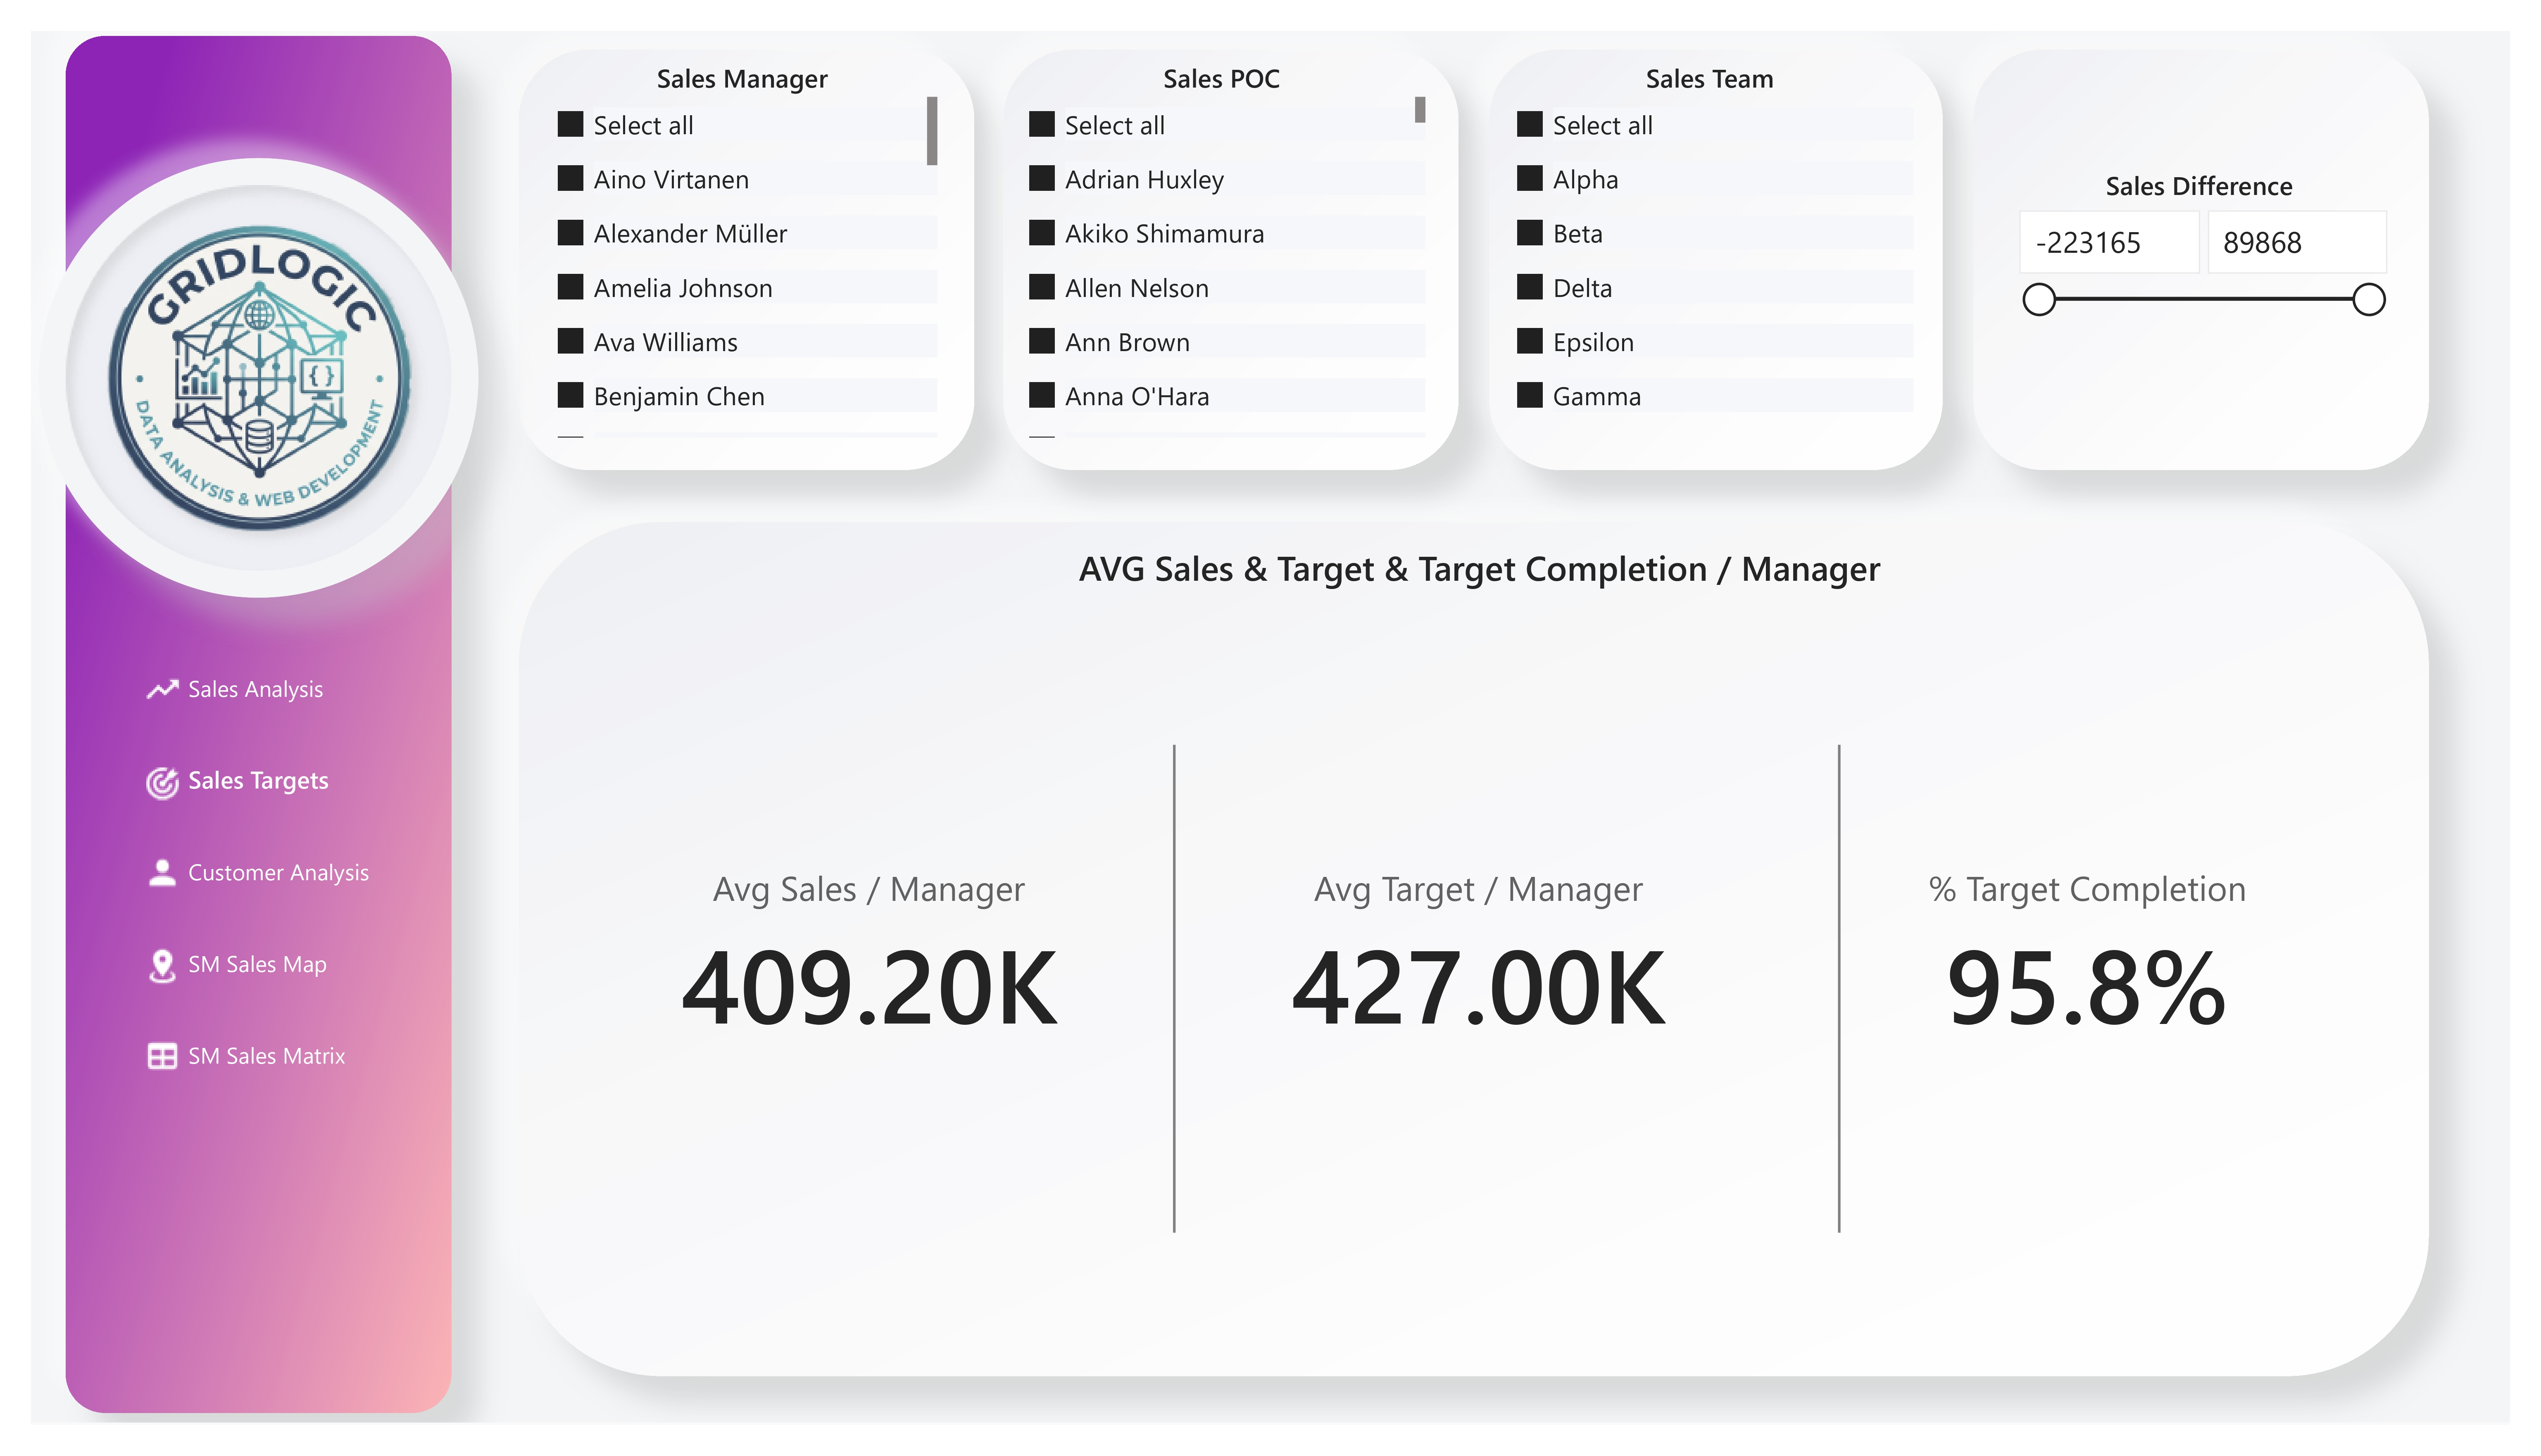

This screenshot's page, from the dashboard's own definition file:
{"tool":"powerbi","page":{"name":"Sales Targets","canvas":[1920,1080],"ordinal":1},"visuals":[{"type":"cardVisual","title":"AVG Sales & Target & Target Completion / Manager","fields":{"Data":["MeasureTable.Avg Sales per Manager","MeasureTable.Avg Target per Manager","MeasureTable.% Target Completion"]},"box":[416.7,396.7,1410,598.3],"z":0},{"type":"slicer","title":"Sales Manager","fields":{"Values":["Sales Targets.Sales Manager Name"]},"box":[400,21.7,301.7,293.3],"z":1000},{"type":"actionButton","title":"TableIconButton","box":[82.9,775.3,37.6,37.6],"z":1500,"group":"g1"},{"type":"slicer","title":"Sales POC","fields":{"Values":["Sales Targets.Sales POC"]},"box":[765,21.7,315,293.3],"z":2000},{"type":"slicer","title":"Sales Team","fields":{"Values":["Sales Targets.Sales Team"]},"box":[1143.3,21.7,315,293.3],"z":3000},{"type":"slicer","title":"Sales Difference","fields":{"Values":["Sales Targets.Sales Difference"]},"box":[1531.7,105,295,130],"z":4000},{"type":"actionButton","title":"MapIconButton","box":[82.9,704.8,37.6,37.6],"z":4000,"group":"g1"},{"type":"actionButton","title":"CustomerIconButton","box":[82.9,632.4,37.6,37.6],"z":4312,"group":"g1"},{"type":"actionButton","title":"TargetIconButton","box":[82.9,563.4,37.6,37.6],"z":4625,"group":"g1"},{"type":"group","id":"g1","title":"NavMenu","box":[82.9,473.8,209.6,355],"z":5000},{"type":"actionButton","title":"SalesIconButton","box":[82.9,490.5,37.6,37.6],"z":5250,"group":"g1"},{"type":"pageNavigator","title":"PageNavigator","box":[110,473.8,182.5,355],"z":5500,"group":"g1"},{"type":"shape","box":[849.1,552.9,72.9,377.9],"z":6000},{"type":"shape","box":[1364.1,552.9,72.9,377.9],"z":7000}]}

Visuals, with their boxes on the page's 1920x1080 design canvas (x1, y1, x2, y2). These are canvas units, not pixel positions in the 2541x1456 screenshot, which may show the page scaled, cropped or inside an application window:
"AVG Sales & Target & Target Completion / Manager" cardVisual: BBox(417, 397, 1827, 995)
"Sales Manager" slicer: BBox(400, 22, 702, 315)
"TableIconButton" actionButton: BBox(83, 775, 120, 813)
"Sales POC" slicer: BBox(765, 22, 1080, 315)
"Sales Team" slicer: BBox(1143, 22, 1458, 315)
"Sales Difference" slicer: BBox(1532, 105, 1827, 235)
"MapIconButton" actionButton: BBox(83, 705, 120, 742)
"CustomerIconButton" actionButton: BBox(83, 632, 120, 670)
"TargetIconButton" actionButton: BBox(83, 563, 120, 601)
"NavMenu" group: BBox(83, 474, 292, 829)
"SalesIconButton" actionButton: BBox(83, 490, 120, 528)
"PageNavigator" pageNavigator: BBox(110, 474, 292, 829)
shape: BBox(849, 553, 922, 931)
shape: BBox(1364, 553, 1437, 931)
